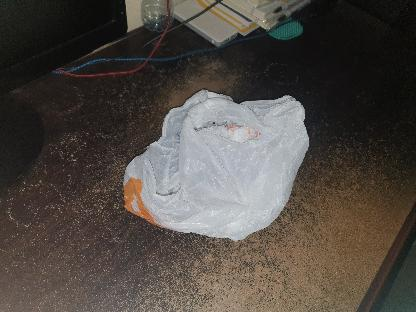Plastic Bag: (121, 88, 312, 242)
